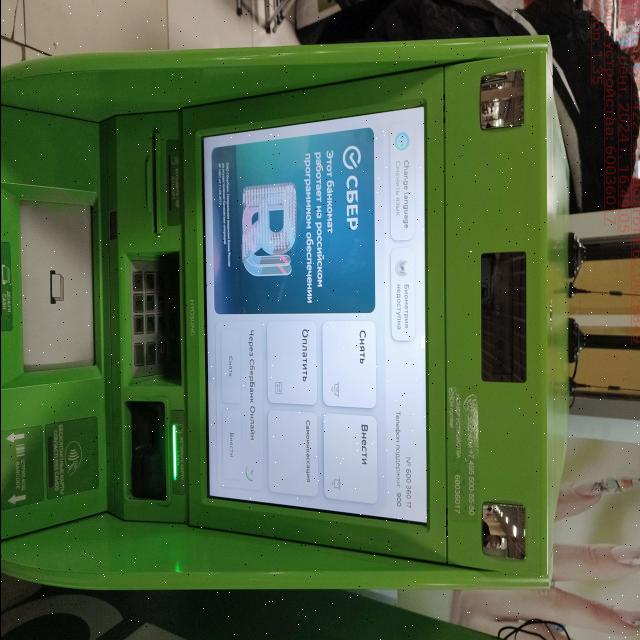bank: (0, 36, 573, 591)
